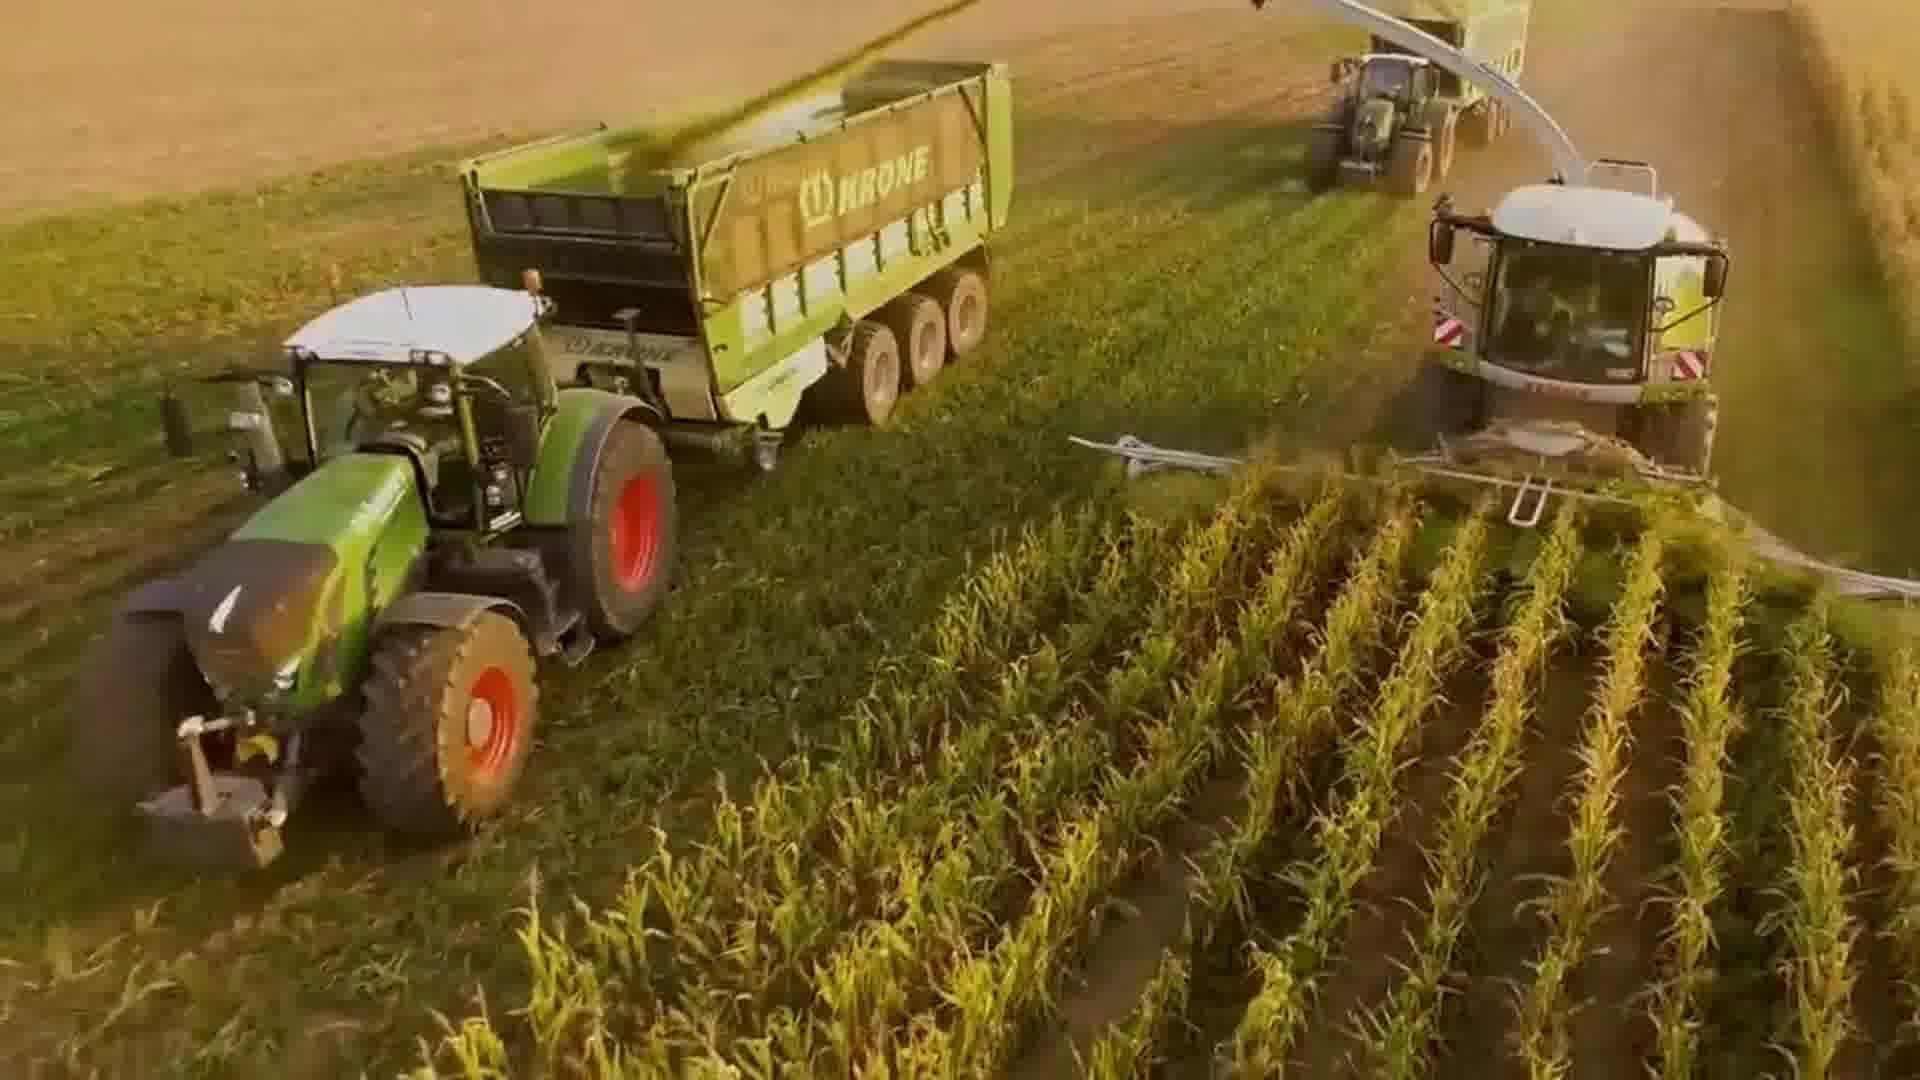combine harvester: (1065, 0, 1920, 677)
tractor: (59, 266, 697, 873), (1296, 47, 1466, 204)
trailer: (446, 47, 1021, 466), (1360, 0, 1539, 139)
